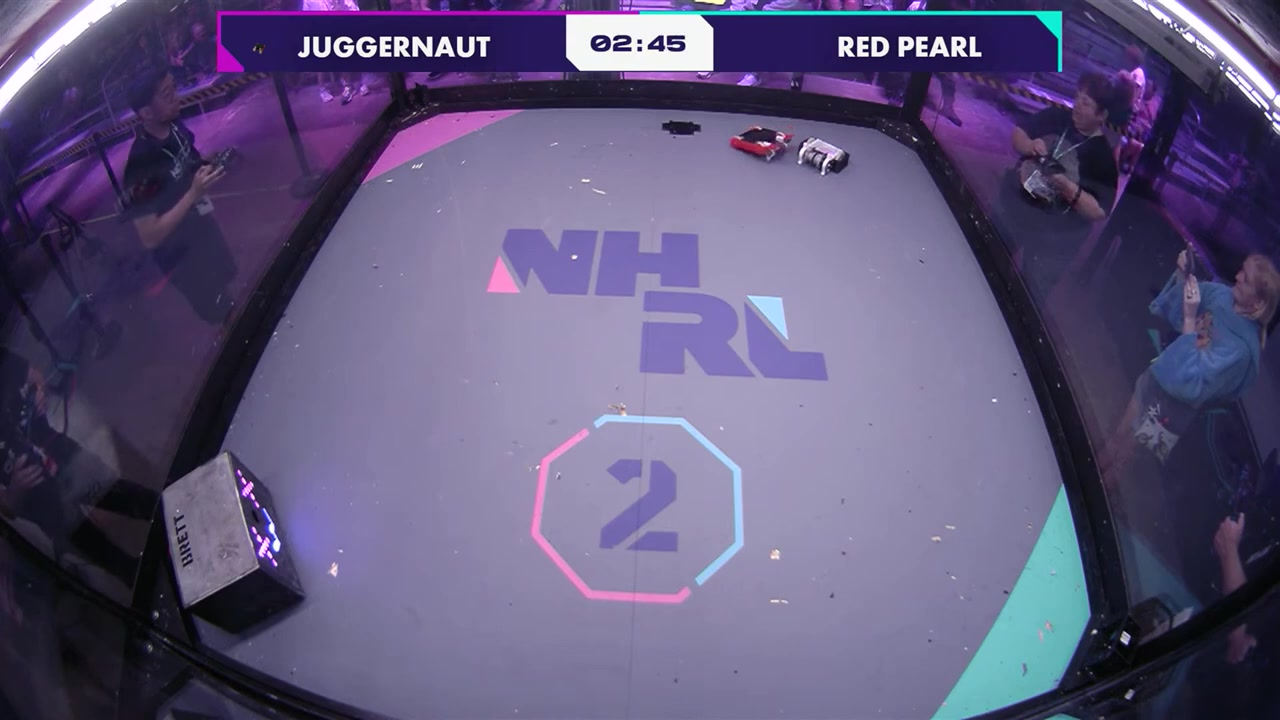combatbot: (731, 125, 793, 164), (794, 138, 851, 177)
debris: (660, 119, 704, 138)
housebot: (158, 452, 304, 638)
